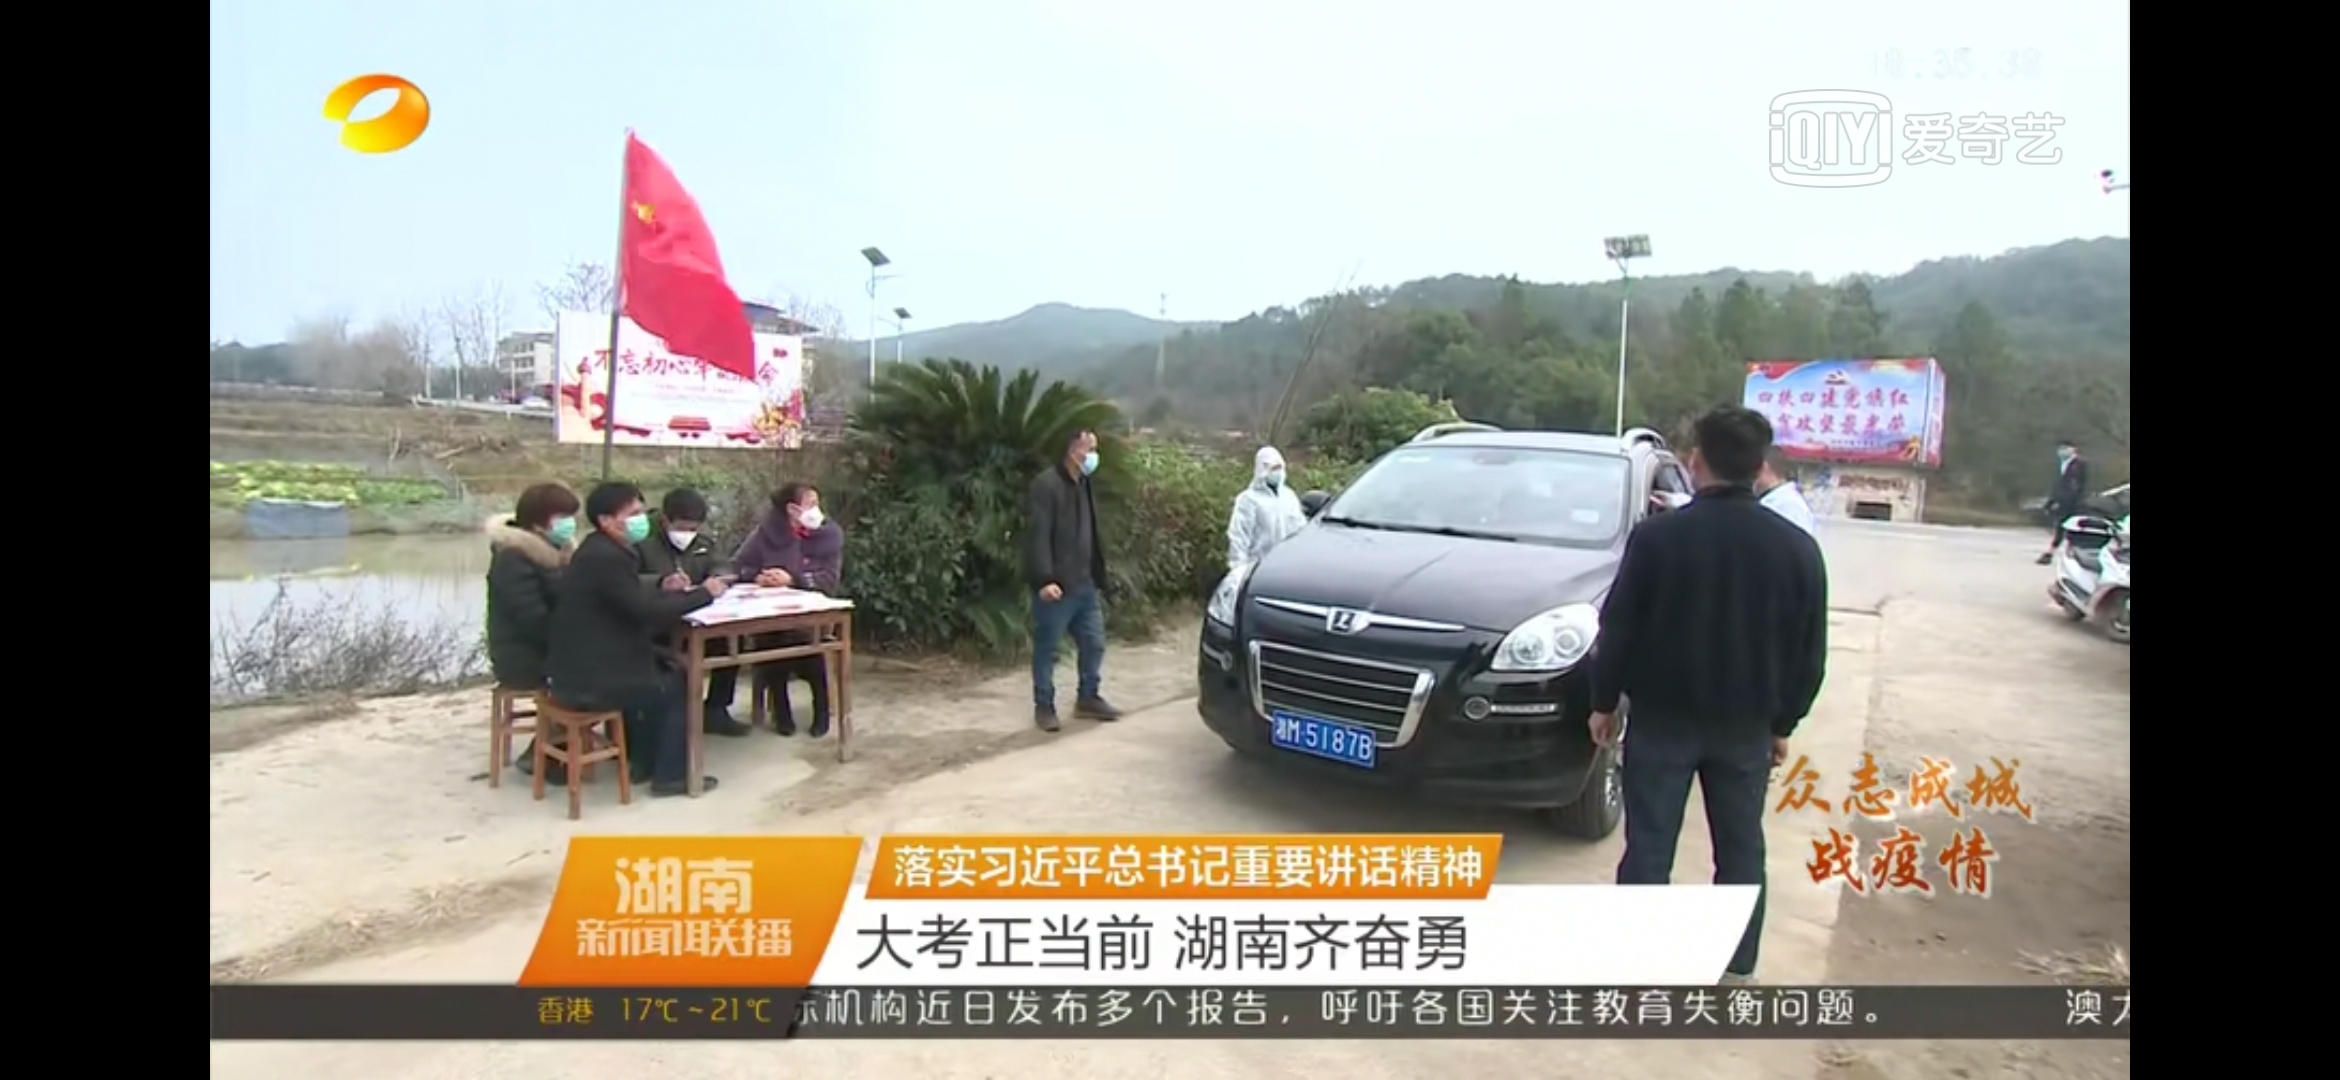correctlyWear: (600, 504, 648, 550), (534, 507, 579, 553), (661, 512, 701, 553), (785, 495, 825, 536), (1069, 437, 1103, 483), (1268, 453, 1286, 486), (2058, 446, 2074, 459)
